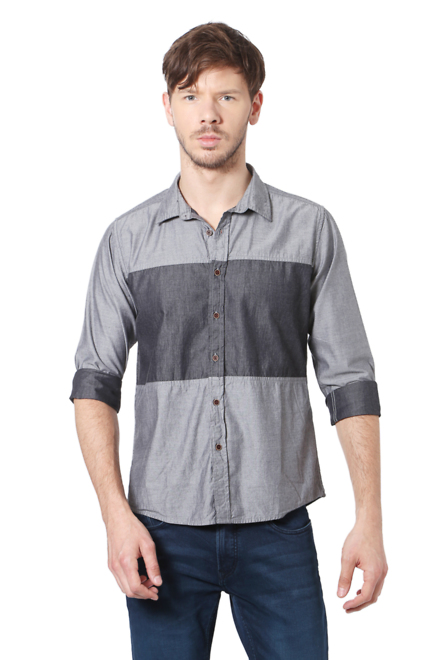NOTSAFE: (125, 19, 324, 527)
